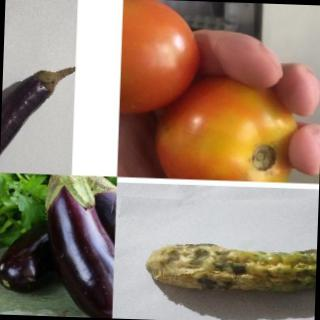Tomat: (114, 1, 320, 181)
